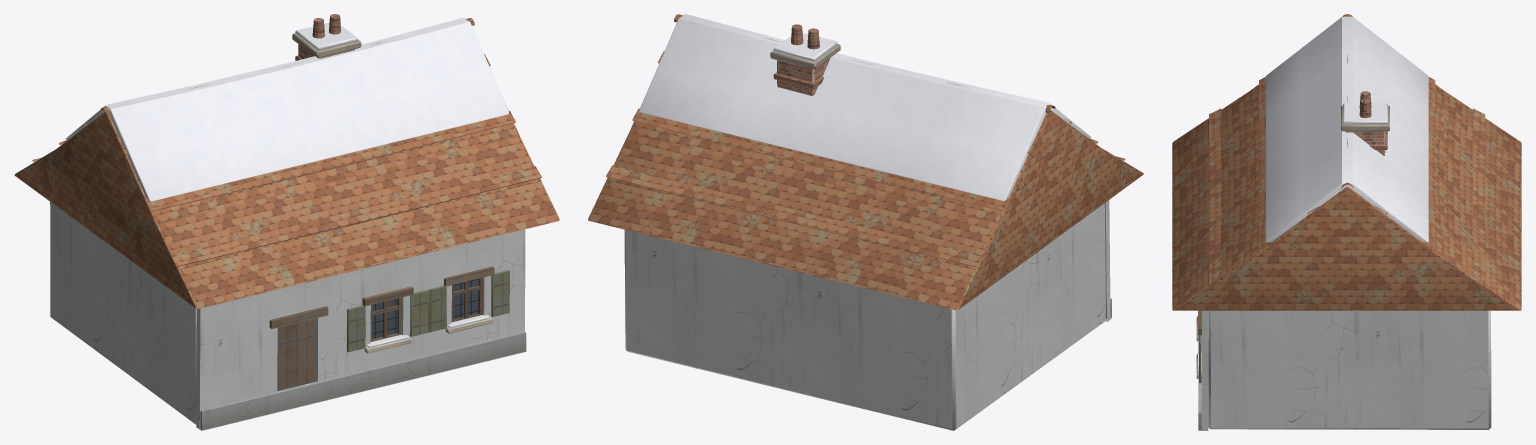
The model's file is garb_house.glb.
3 views of the same model, side by side, from view 1: azimuth 30°, elevation 25°; view 2: azimuth 150°, elevation 25°; view 3: azimuth 270°, elevation 25° (orthographic). The views are drawn at different scales.
Visible parts, largest first — view 1: garb_house; view 2: garb_house; view 3: garb_house.
Part boxes in pixels (left/top/right/bottom): garb_house: left=14, top=14, right=559, bottom=430; garb_house: left=588, top=14, right=1143, bottom=430; garb_house: left=1172, top=14, right=1521, bottom=430.
Size of what is drawn, in the model's own units: 9.09 by 6.99 by 7.85.
Materials: 14 (14 with a texture image).
